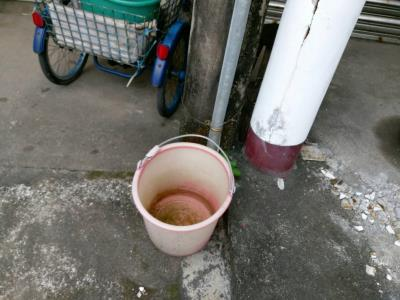bucket: (130, 138, 237, 260)
